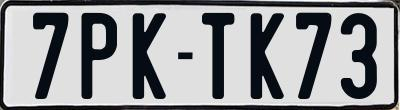3: (338, 11, 376, 98)
7: (33, 13, 71, 104), (293, 13, 331, 103)
K: (131, 10, 164, 100), (249, 13, 282, 103)
P: (79, 12, 119, 99)
T: (201, 12, 238, 101)
